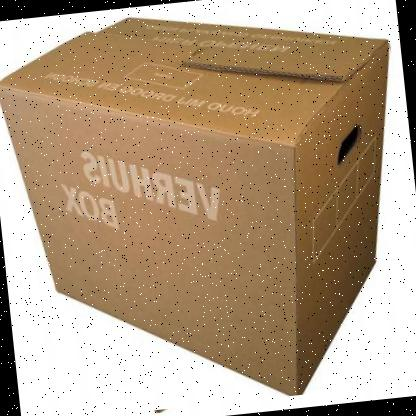box: (1, 16, 393, 396)
normal_hole: (337, 125, 361, 167)
